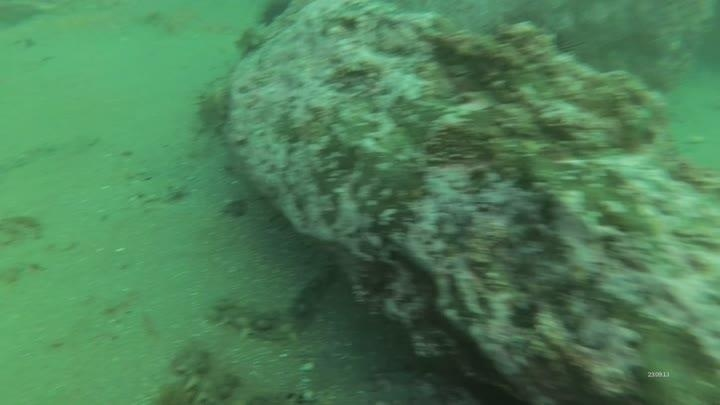holothurian: (168, 338, 287, 405), (204, 291, 308, 344), (284, 242, 338, 333), (191, 77, 233, 138)
